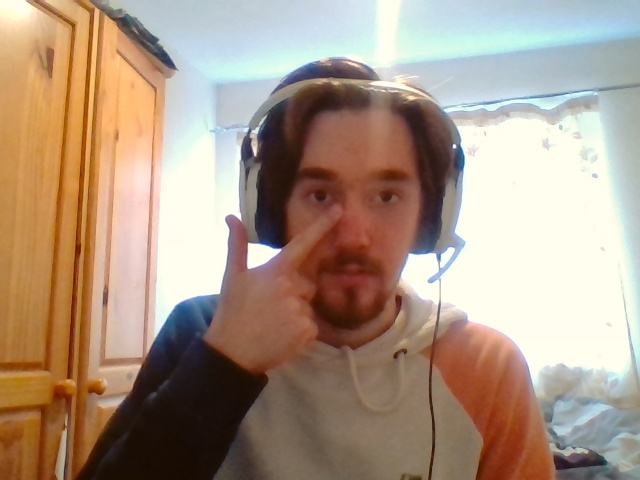luck: (225, 202, 342, 355)
